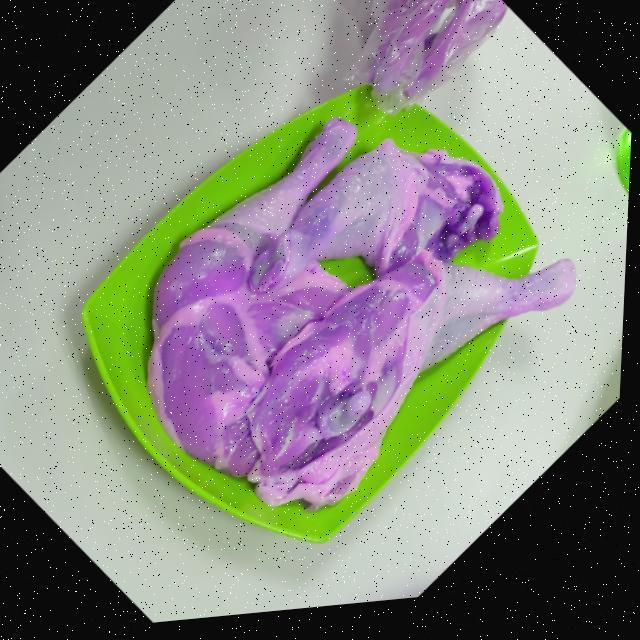quater: (272, 256, 574, 481), (146, 113, 334, 448), (258, 136, 492, 288)
